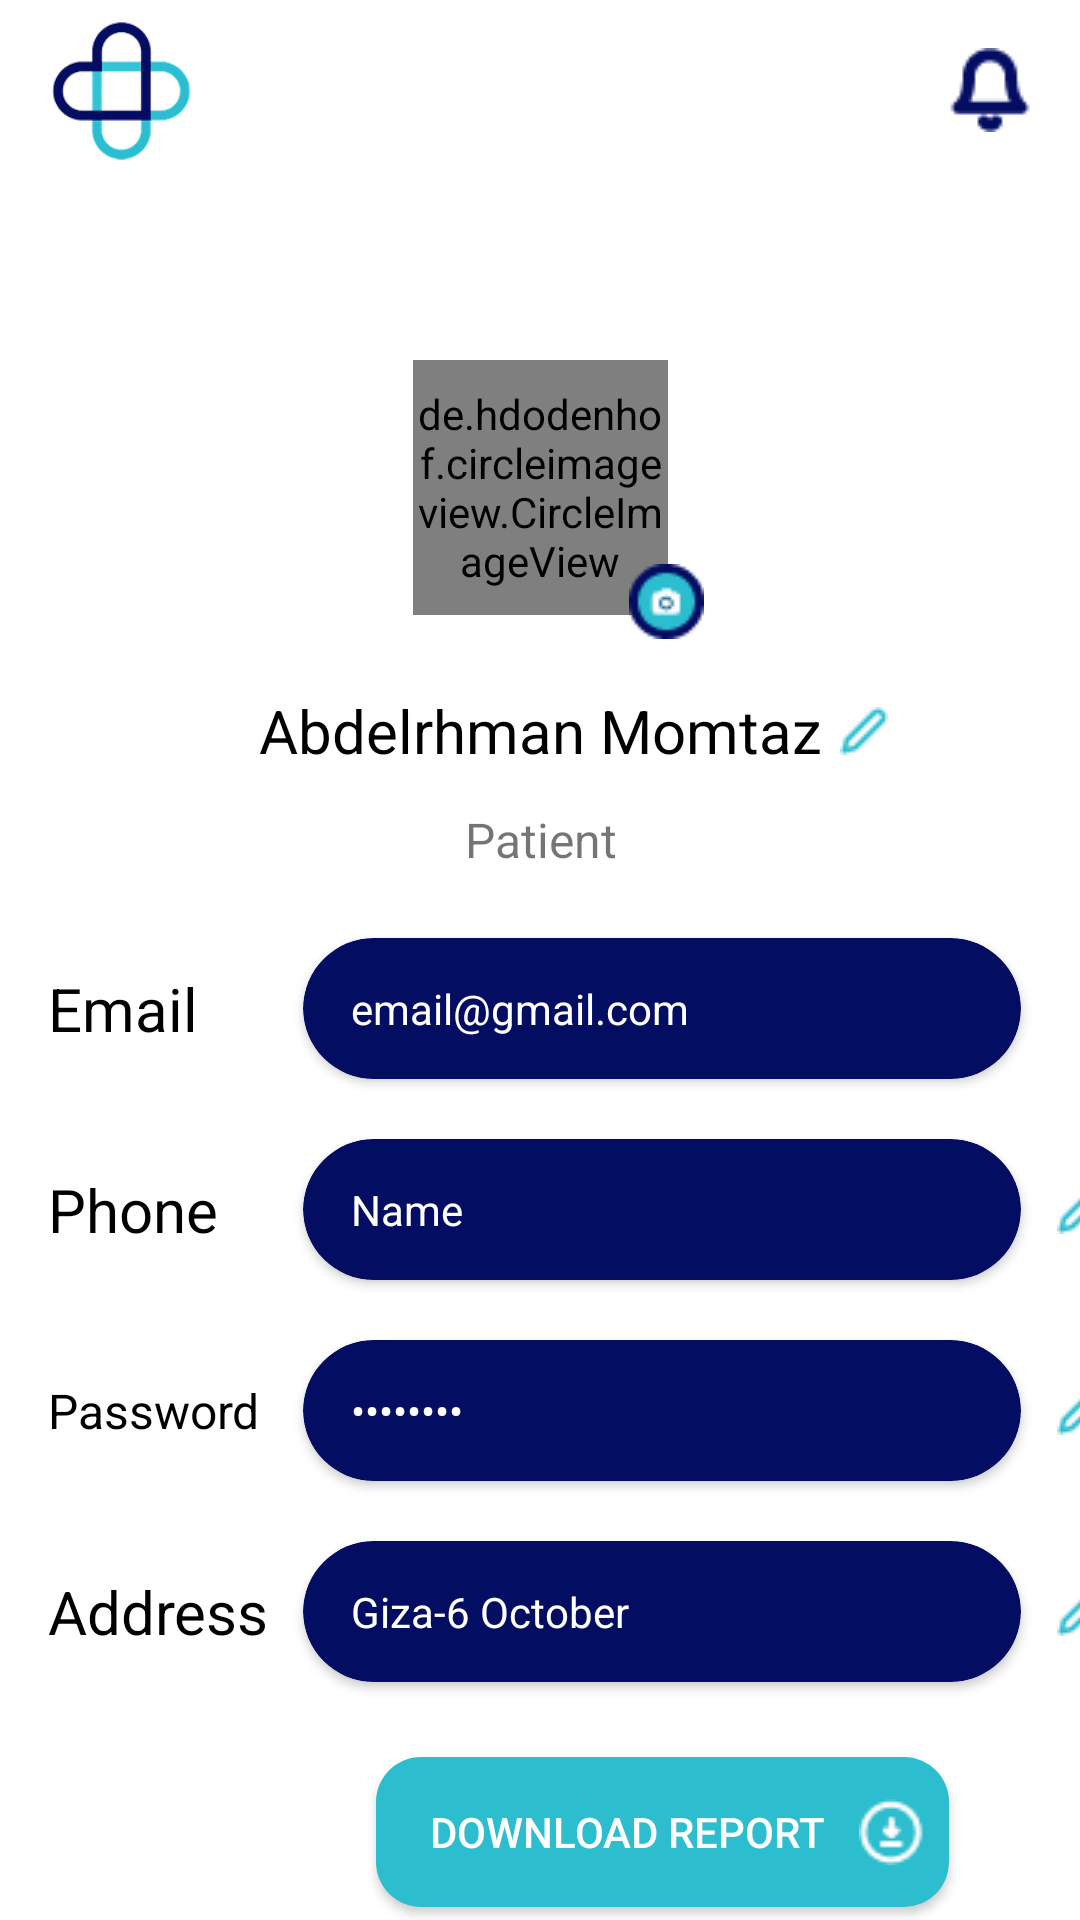

Icon click points for this 1080*1920 phone screenshot, format (x,y):
bell: (990,90)
camra: (666,601)
medicare: (121,91)
